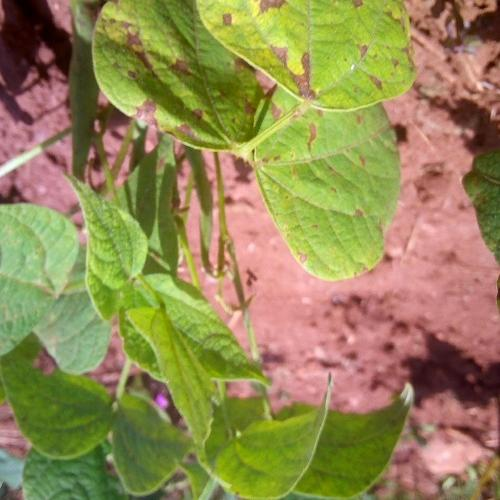hawar: (353, 0, 424, 109), (131, 63, 209, 146), (94, 5, 170, 76), (272, 38, 334, 115), (259, 112, 333, 176), (214, 0, 302, 41)
